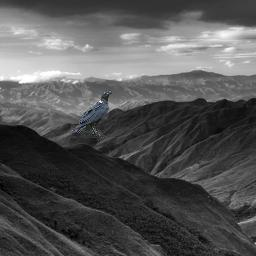Crow: (71, 90, 113, 138)
